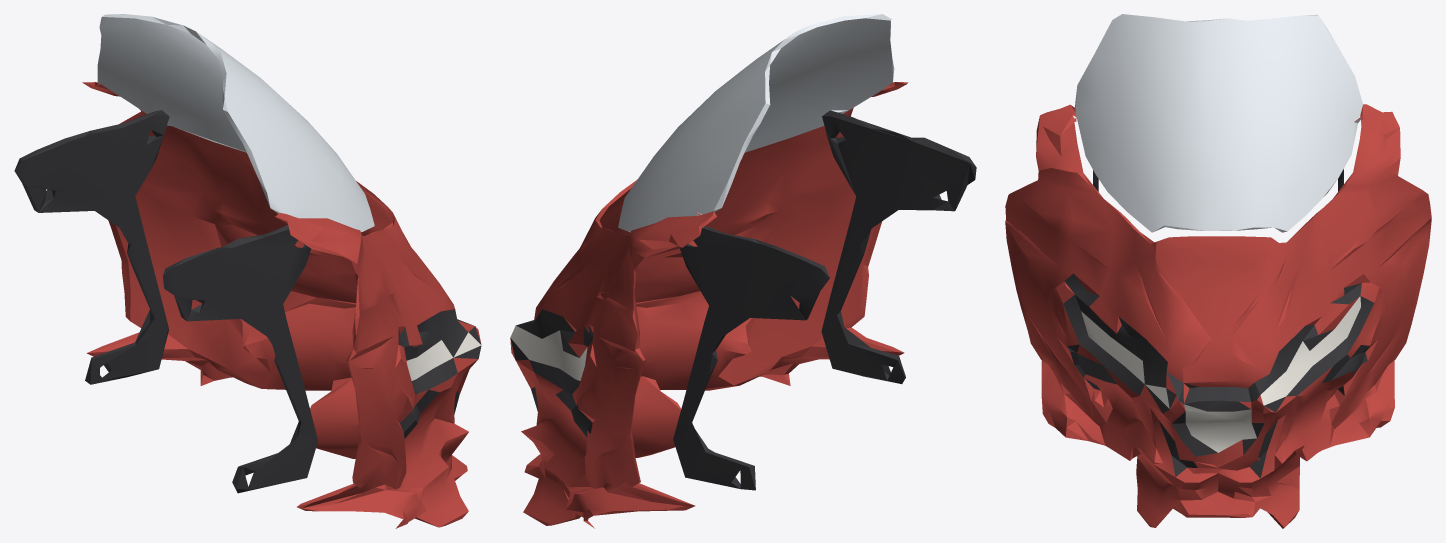
Rendered from naked_3_lod2.glb.
3 views of the same model, side by side, from view 1: azimuth 30°, elevation 25°; view 2: azimuth 150°, elevation 25°; view 3: azimuth 270°, elevation 25° (orthographic). The views are drawn at different scales.
Parts seen in each view (by area): view 1: naked_3_lod2; view 2: naked_3_lod2; view 3: naked_3_lod2.
Part boxes in pixels (x1,y1,x2,y2): naked_3_lod2: [14, 14, 481, 528]; naked_3_lod2: [510, 14, 976, 528]; naked_3_lod2: [1005, 14, 1431, 528].
Size of the model in its own units: 0.343 by 0.4527 by 0.4167.
